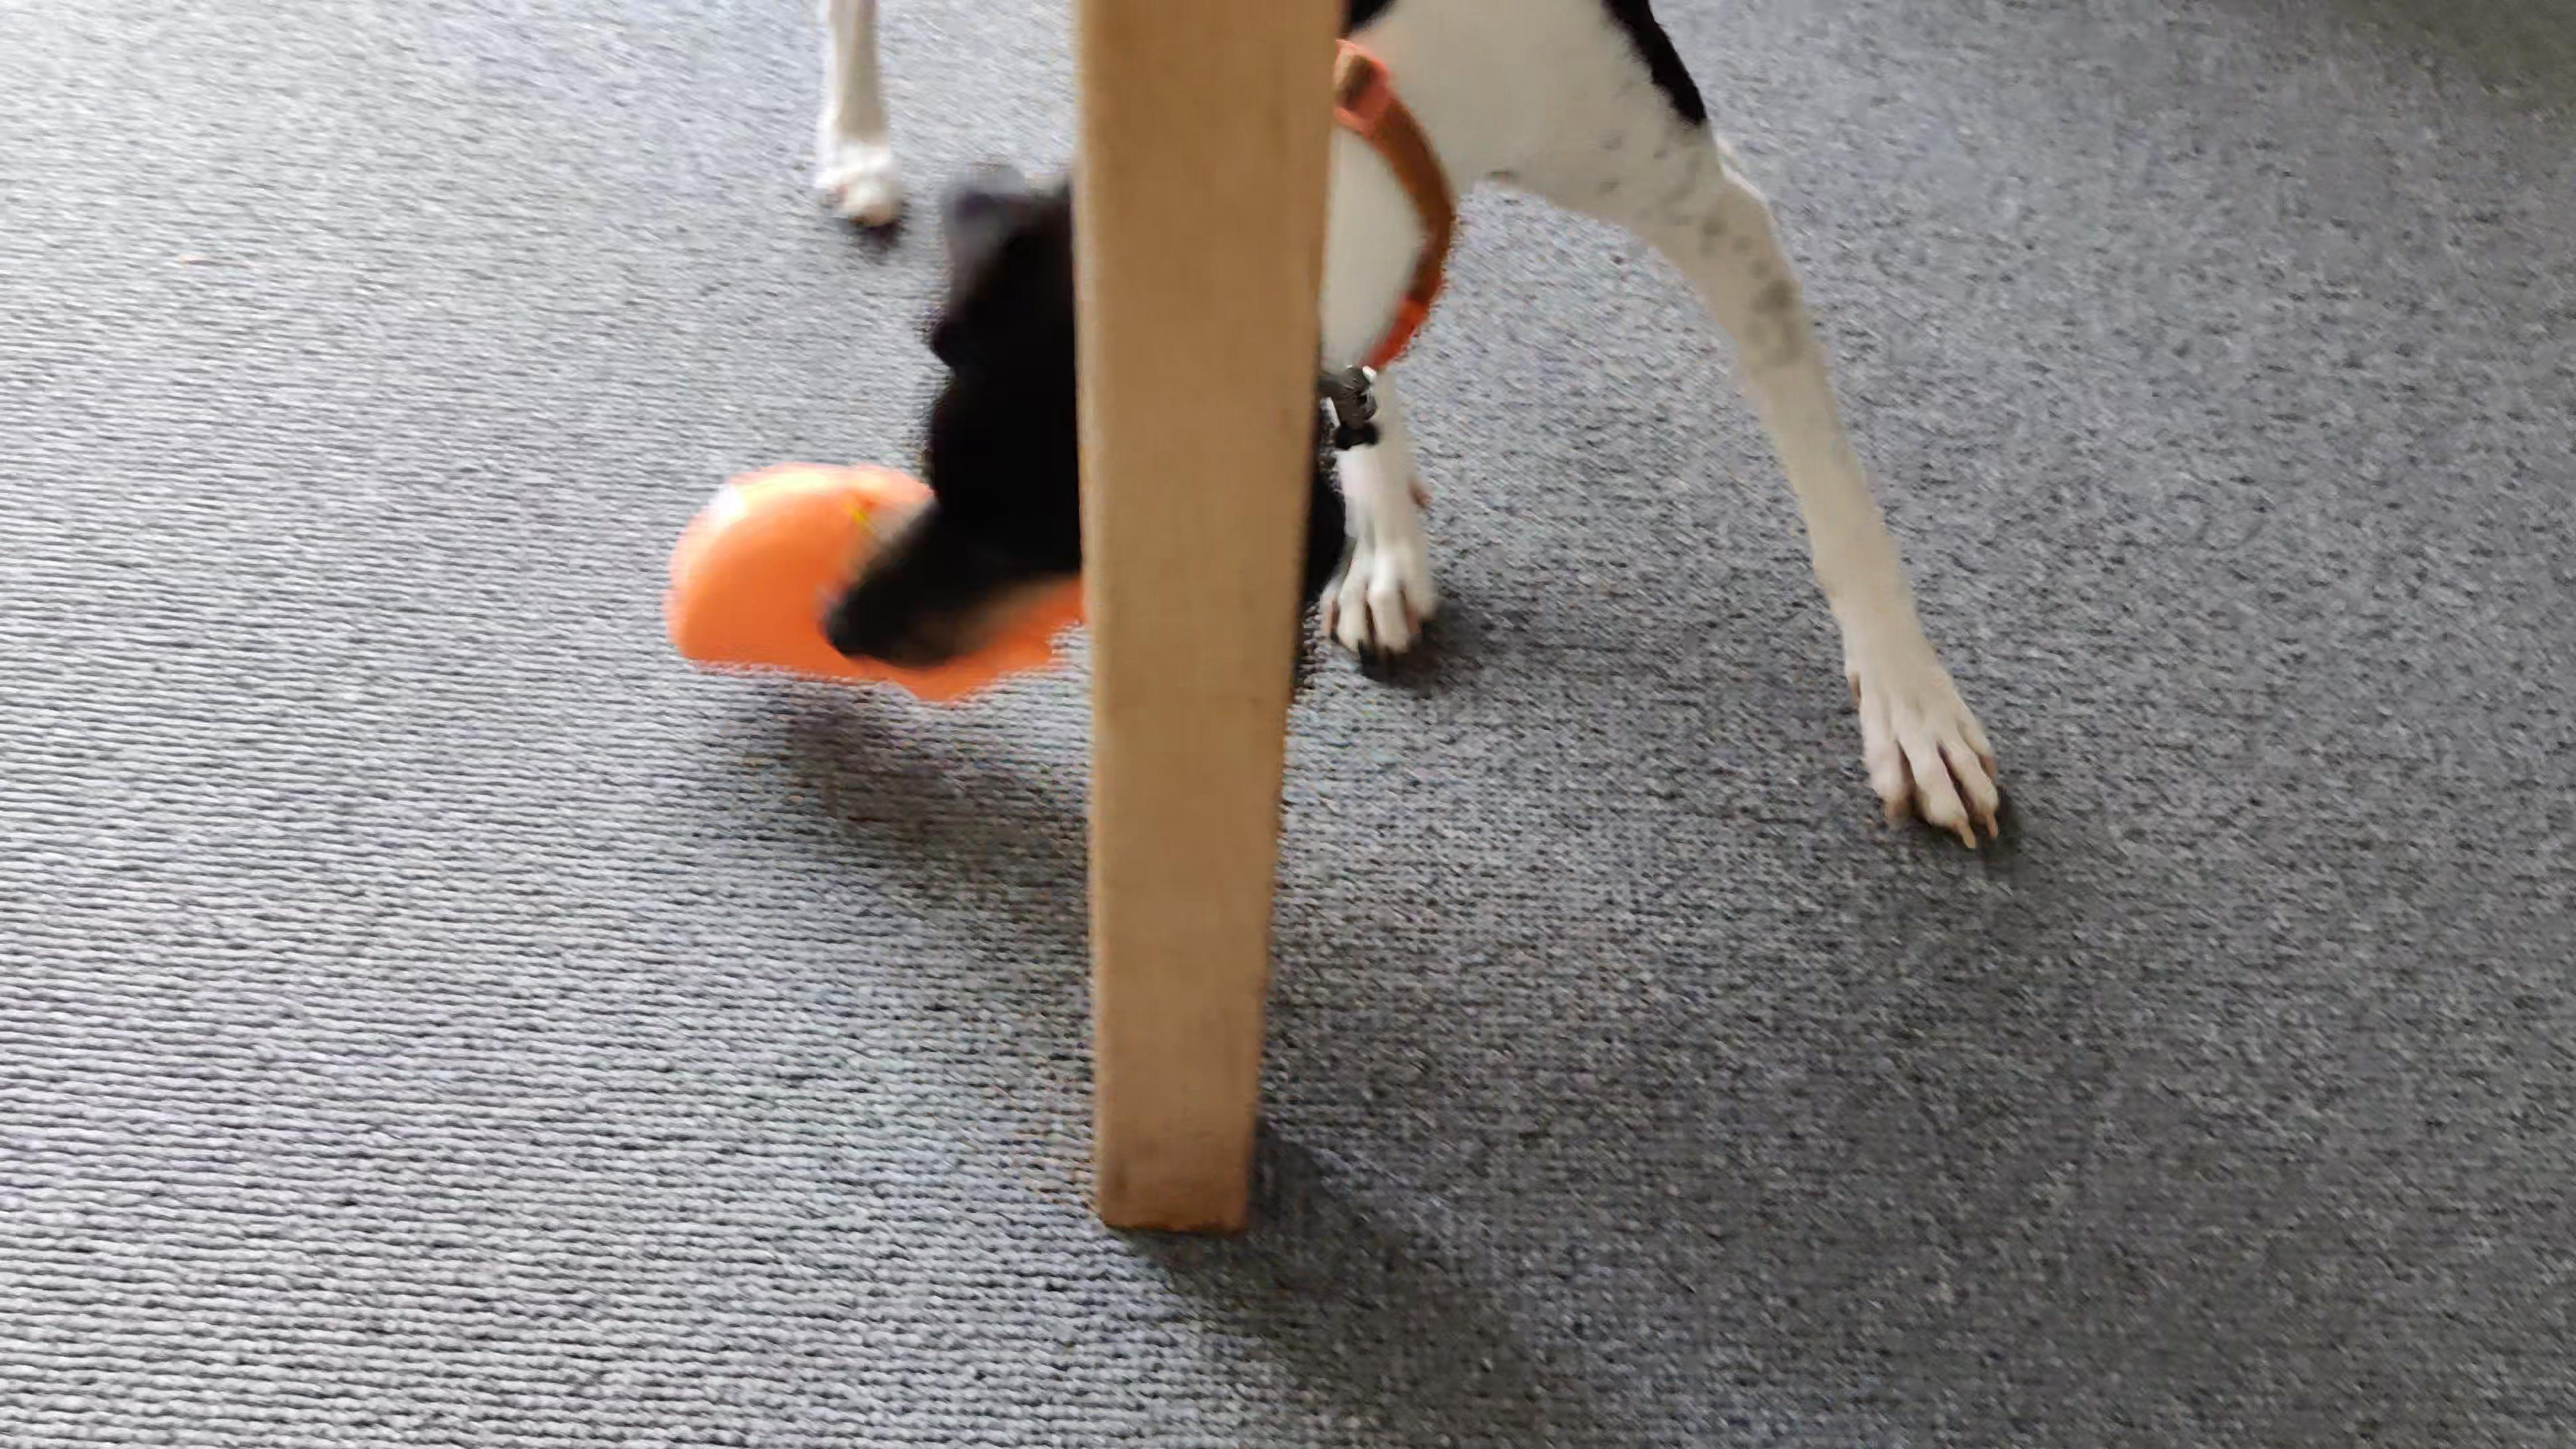Dog: (766, 0, 2029, 865)
